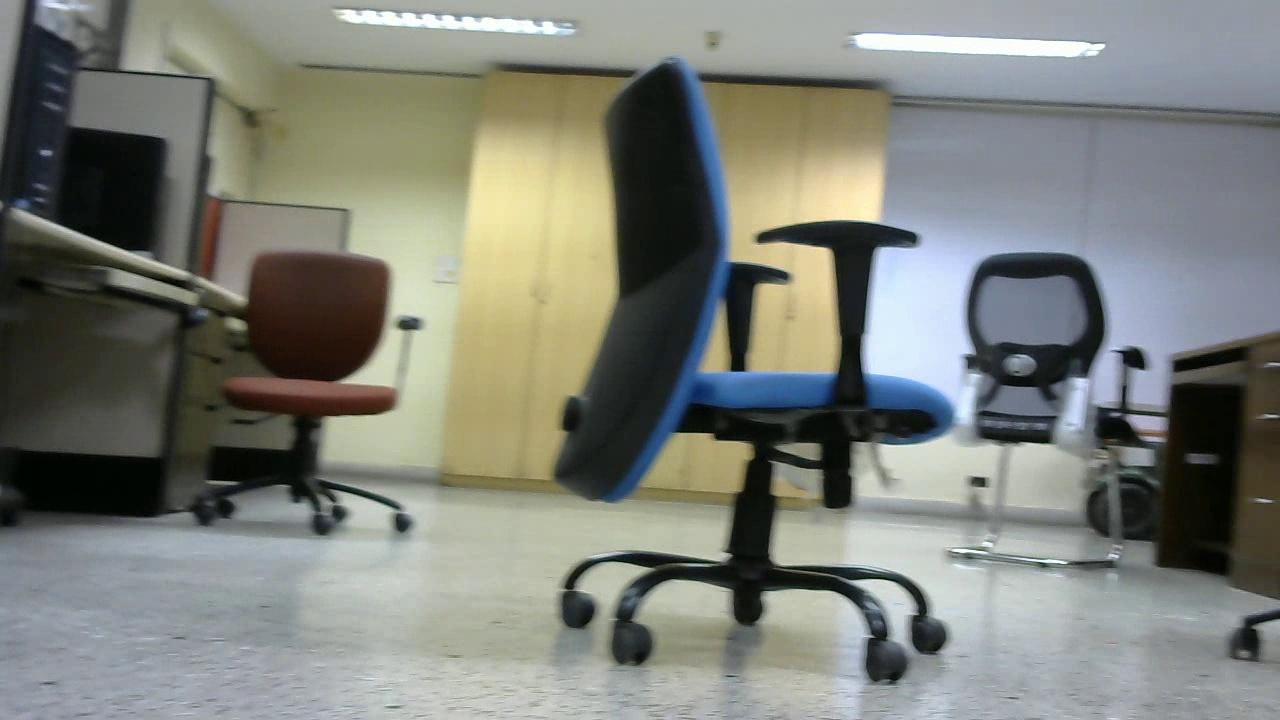chair: (518, 44, 970, 683), (199, 248, 416, 543), (939, 256, 1122, 576)
